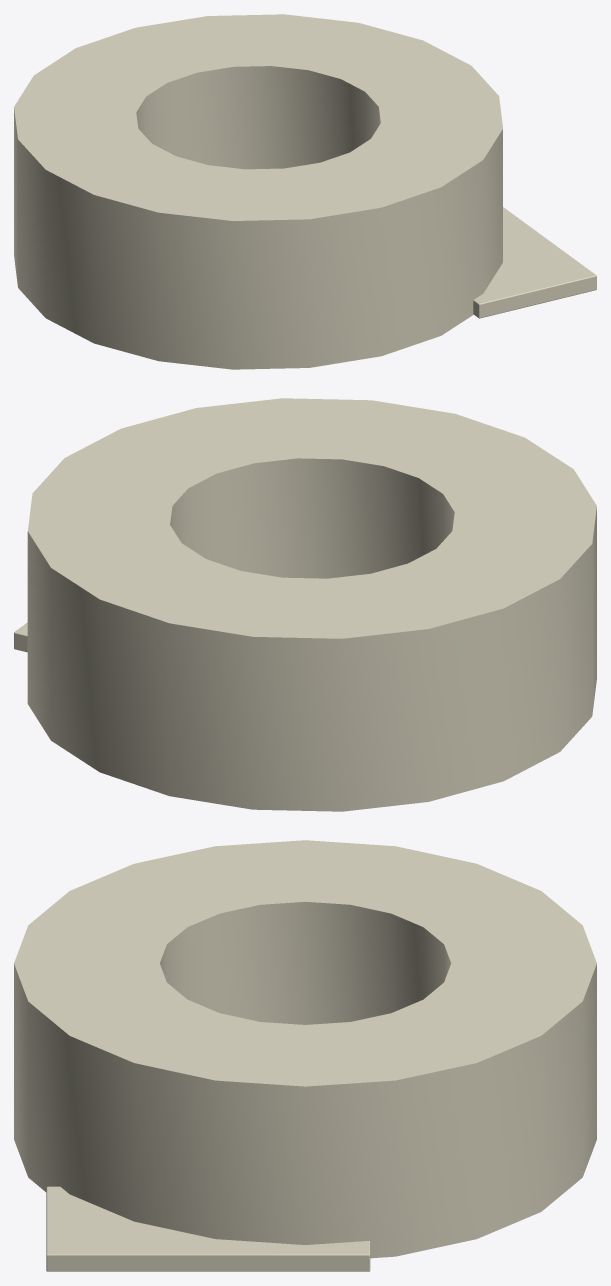
Rendered from scavengers-loot-library-masking-tape-9d290951__2600.glb.
3 renders of one model, top to bottom at view 1: azimuth 30°, elevation 25°; view 2: azimuth 150°, elevation 25°; view 3: azimuth 270°, elevation 25°, orthographic. The views are drawn at different scales.
Parts seen in each view (by area): view 1: masking-tape; view 2: masking-tape; view 3: masking-tape.
Boxes of the visible parts, <box> form: masking-tape: <box>14,14,596,369</box>; masking-tape: <box>14,398,596,811</box>; masking-tape: <box>14,840,596,1271</box>.
Size of the model in its own units: 0.0935 by 0.03 by 0.09.
